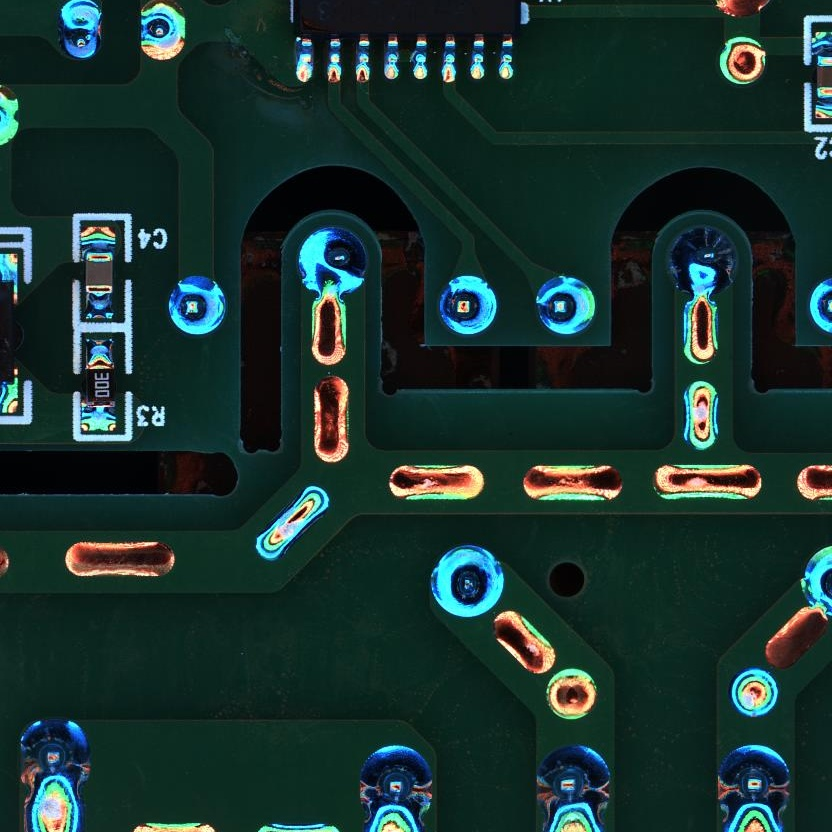spot: (425, 542, 506, 621), (356, 744, 436, 821), (713, 743, 793, 819), (18, 716, 92, 794), (536, 744, 612, 819), (295, 225, 369, 298), (665, 224, 739, 296), (435, 273, 499, 338), (533, 274, 598, 337), (167, 273, 228, 338), (137, 1, 188, 61), (728, 667, 782, 721), (56, 1, 102, 62), (800, 543, 832, 623)
